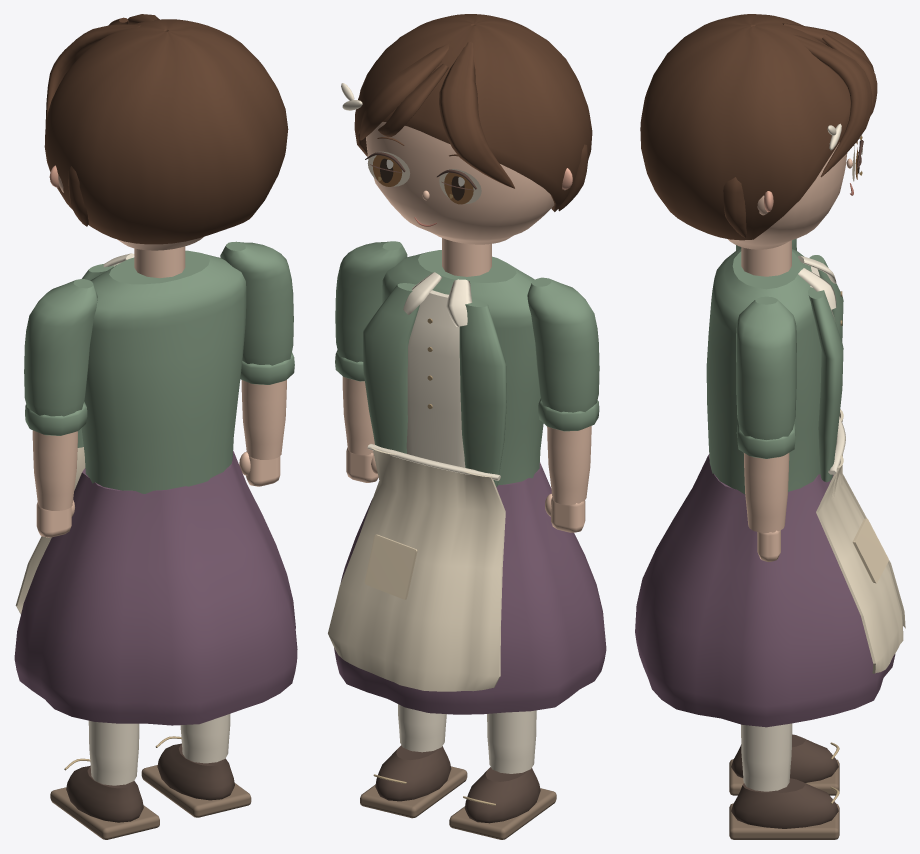
Rendered from misaki-native-v3.glb.
3 views of the same model, side by side, from view 1: azimuth 30°, elevation 25°; view 2: azimuth 150°, elevation 25°; view 3: azimuth 270°, elevation 25° (orthographic). The views are drawn at different scales.
Visible parts, largest first — view 1: body.surface.3, head.surface.8, body.surface.0, arm-left.surface.30, arm-right.surface.38, forearm-left.surface.31, forearm-right.surface.39, shin-left.surface.34, foot-right.surface.43, foot-left.surface.35, shin-right.surface.42, foot-right.surface.44 (+6 smaller); view 2: body.surface.4, head.surface.8, body.surface.0, body.surface.3, head.surface.7, body.surface.1, arm-left.surface.30, arm-right.surface.38, foot-left.surface.35, foot-right.surface.43, forearm-left.surface.31, shin-left.surface.34 (+9 smaller); view 3: body.surface.3, head.surface.8, body.surface.0, arm-right.surface.38, body.surface.4, foot-right.surface.43, head.surface.7, shin-right.surface.42, forearm-right.surface.39, foot-left.surface.35, foot-right.surface.44, body.surface.2 (+5 smaller).
Boxes of the visible parts, bbox=[...] form: body.surface.3: bbox=[14, 451, 297, 725]; head.surface.8: bbox=[44, 14, 288, 244]; body.surface.0: bbox=[77, 250, 246, 493]; arm-left.surface.30: bbox=[24, 279, 97, 435]; arm-right.surface.38: bbox=[220, 241, 294, 384]; forearm-left.surface.31: bbox=[32, 430, 77, 510]; forearm-right.surface.39: bbox=[241, 380, 286, 459]; shin-left.surface.34: bbox=[88, 720, 139, 785]; foot-right.surface.43: bbox=[157, 743, 234, 800]; foot-left.surface.35: bbox=[66, 765, 143, 822]; shin-right.surface.42: bbox=[180, 714, 230, 763]; foot-right.surface.44: bbox=[141, 765, 251, 817]; body.surface.4: bbox=[328, 447, 505, 691]; head.surface.8: bbox=[354, 14, 592, 211]; body.surface.0: bbox=[363, 250, 543, 486]; body.surface.3: bbox=[334, 462, 606, 714]; head.surface.7: bbox=[366, 122, 565, 244]; body.surface.1: bbox=[367, 272, 500, 480]; arm-left.surface.30: bbox=[527, 277, 599, 431]; arm-right.surface.38: bbox=[335, 241, 407, 381]; foot-left.surface.35: bbox=[464, 767, 540, 823]; foot-right.surface.43: bbox=[375, 745, 451, 801]; forearm-left.surface.31: bbox=[547, 426, 591, 504]; shin-left.surface.34: bbox=[487, 710, 536, 773]; body.surface.3: bbox=[635, 454, 895, 727]; head.surface.8: bbox=[640, 14, 877, 240]; body.surface.0: bbox=[706, 249, 843, 494]; arm-right.surface.38: bbox=[736, 296, 796, 458]; body.surface.4: bbox=[816, 409, 905, 673]; foot-right.surface.43: bbox=[731, 778, 838, 828]; head.surface.7: bbox=[728, 142, 852, 249]; shin-right.surface.42: bbox=[741, 723, 792, 791]; forearm-right.surface.39: bbox=[744, 453, 789, 532]; foot-left.surface.35: bbox=[731, 734, 838, 782]; foot-right.surface.44: bbox=[729, 803, 839, 839]; body.surface.2: bbox=[741, 240, 791, 276].
Bounding box in the file's own units: 0.5753 × 1.64 × 0.5179.
20 materials, 1 textured.
